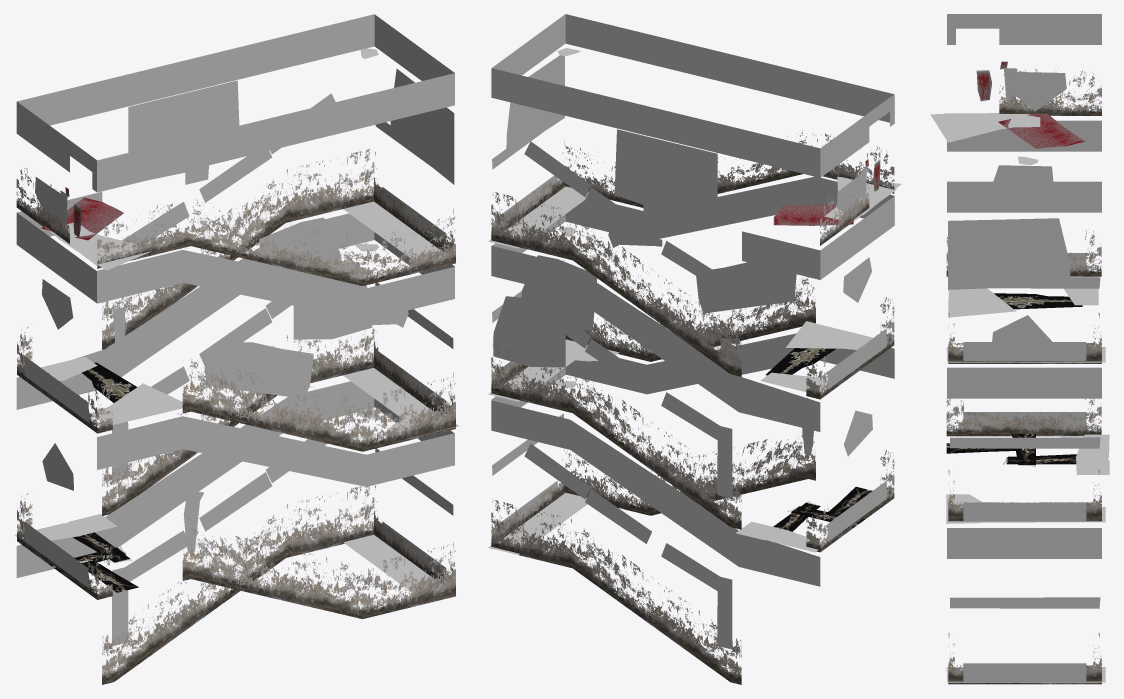
The model's file is Lobby_Decals.FBX.
The picture shows the model from 3 angles, left to right: view 1: azimuth 30°, elevation 25°; view 2: azimuth 150°, elevation 25°; view 3: azimuth 270°, elevation 25°; orthographic projection. The views are drawn at different scales.
Visible parts, largest first — view 1: Lobby_Decals; view 2: Lobby_Decals; view 3: Lobby_Decals.
Boxes of the visible parts, x1,y1,x2,y2 form: Lobby_Decals: (14,14,459,684); Lobby_Decals: (488,14,901,684); Lobby_Decals: (930,14,1109,684).
Size of the model in its own units: 1183 by 1856 by 520.
